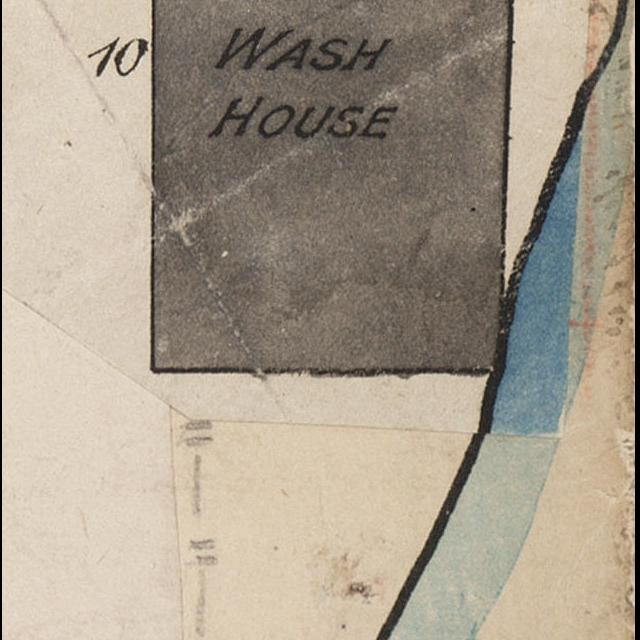building-footprints: (154, 0, 510, 370)
